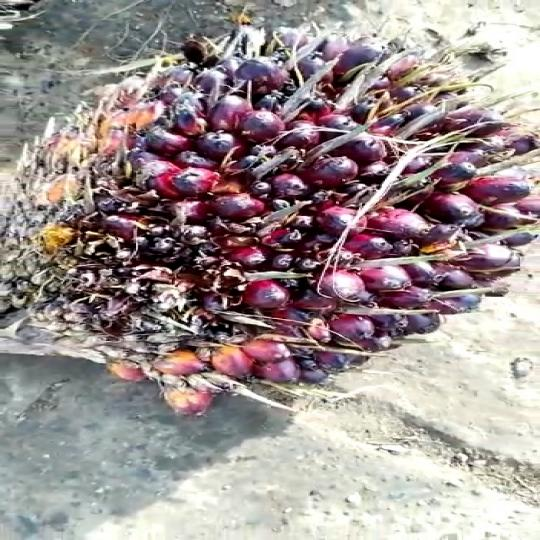masak: (0, 26, 540, 418)
